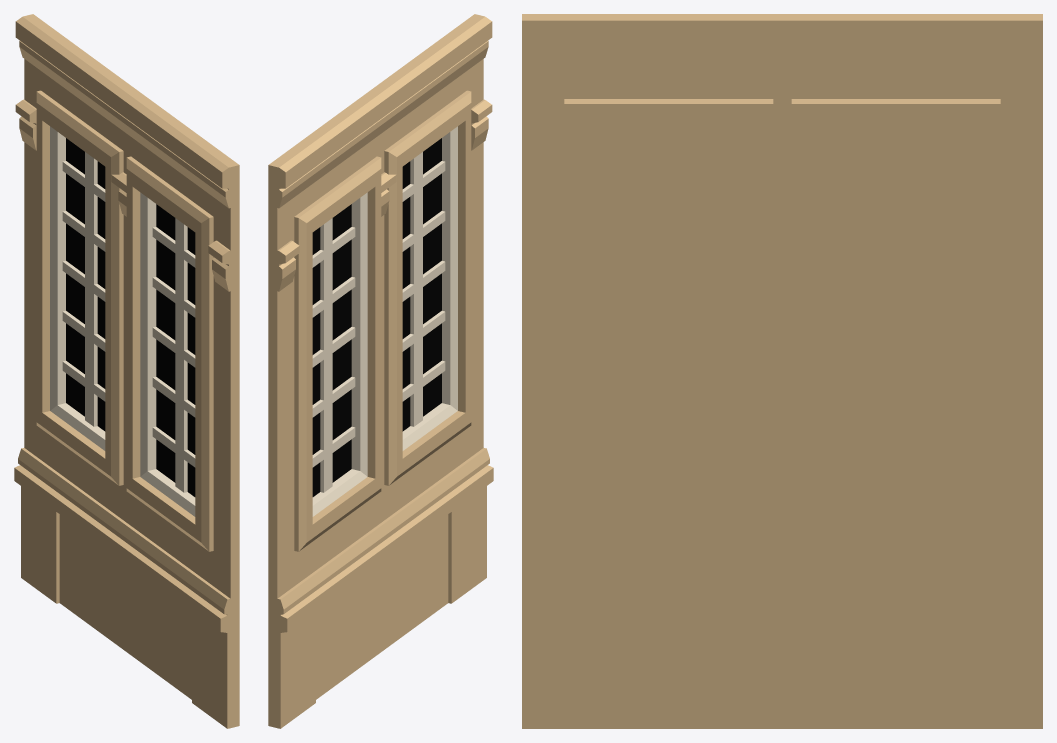
The model's file is Window_Double_1.fbx.
3 renders of one model, left to right at view 1: azimuth 30°, elevation 25°; view 2: azimuth 150°, elevation 25°; view 3: azimuth 270°, elevation 25°, orthographic. The views are drawn at different scales.
Visible parts, largest first — view 1: Window_Double_1; view 2: Window_Double_1; view 3: Window_Double_1.
Boxes of the visible parts, box(x1,y1,x2,y2) form: Window_Double_1: box(14, 14, 239, 728); Window_Double_1: box(268, 14, 493, 728); Window_Double_1: box(522, 14, 1042, 728).
Bounding box in the file's own units: 14.9 × 200 × 300.
